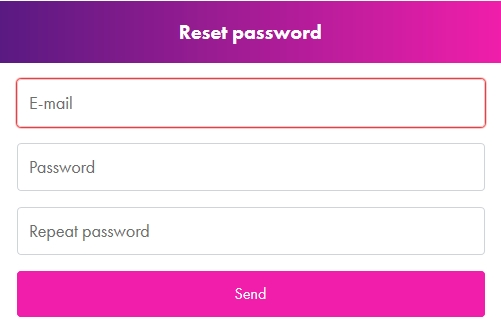error_field: (15, 77, 487, 130)
